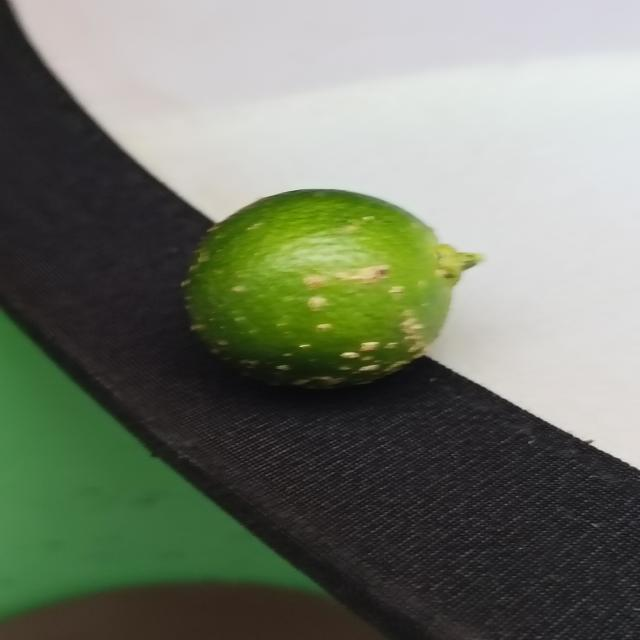scab: (182, 189, 452, 384)
